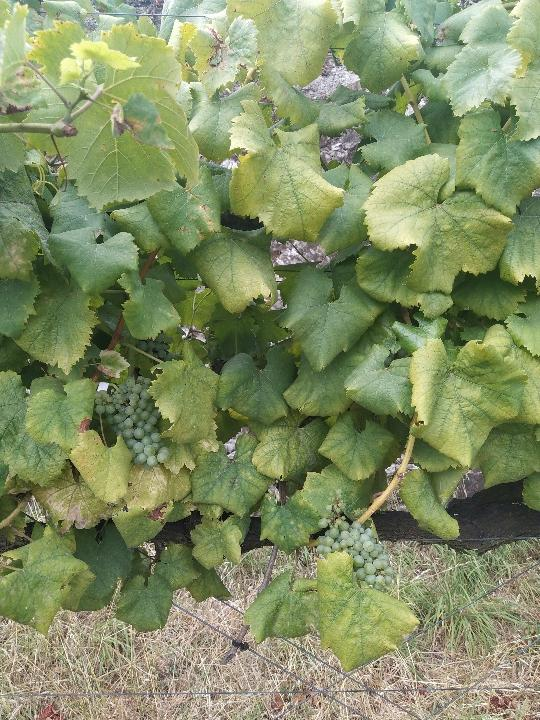grape: (93, 375, 171, 471), (315, 518, 395, 592)
